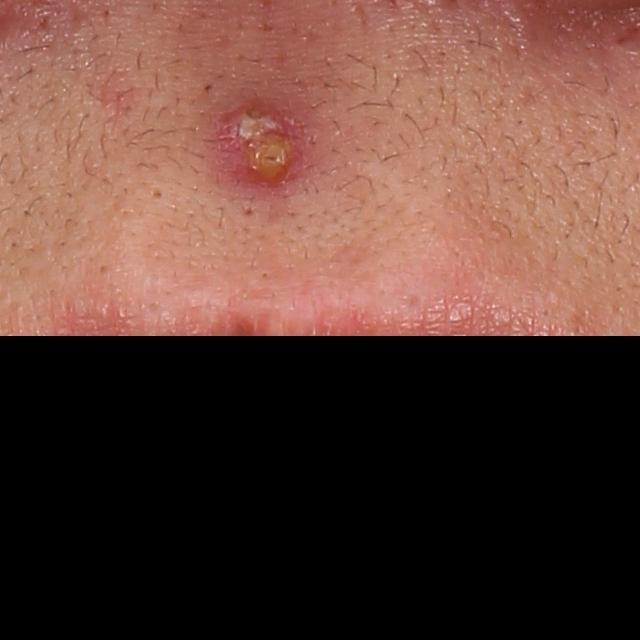comedo: (147, 186, 164, 201)
pustule: (220, 89, 308, 187)
